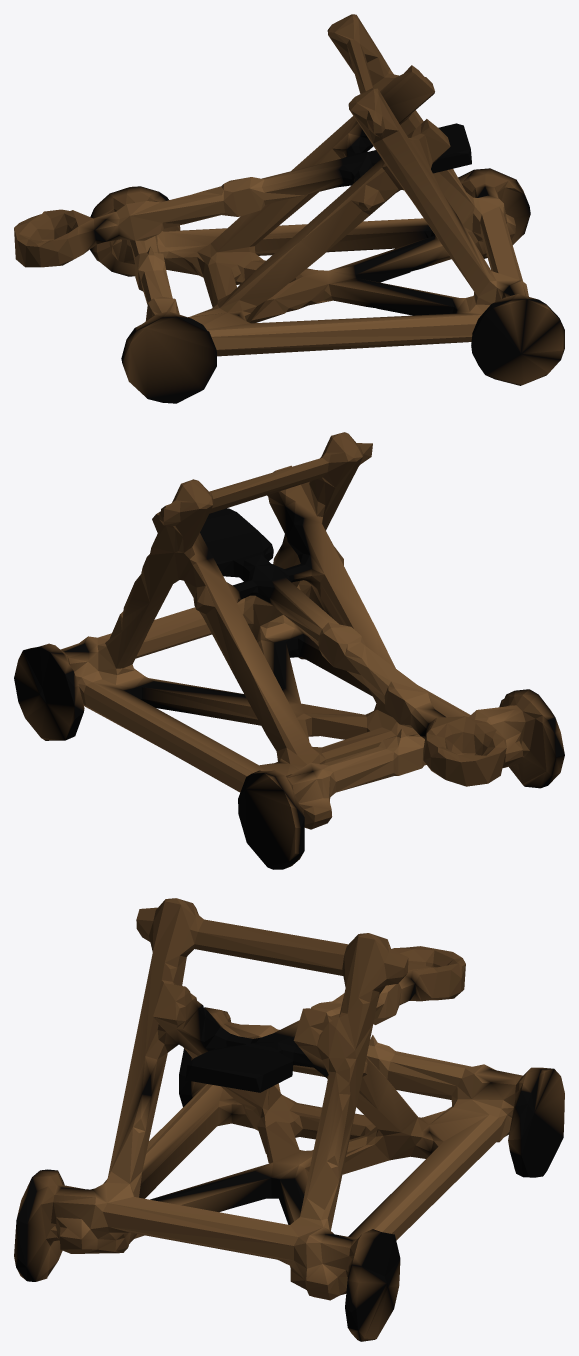
Rendered from Catapult.glb.
3 renders of one model, top to bottom at view 1: azimuth 30°, elevation 25°; view 2: azimuth 150°, elevation 25°; view 3: azimuth 270°, elevation 25°, orthographic. The views are drawn at different scales.
Parts seen in each view (by area): view 1: Root; view 2: Root; view 3: Root.
Part boxes in pixels (box(x1,y1,x2,y2)): Root: box(14, 14, 564, 403); Root: box(14, 432, 564, 869); Root: box(14, 898, 564, 1341).
Size of the model in its own units: 2.79 by 1.51 by 2.3.
